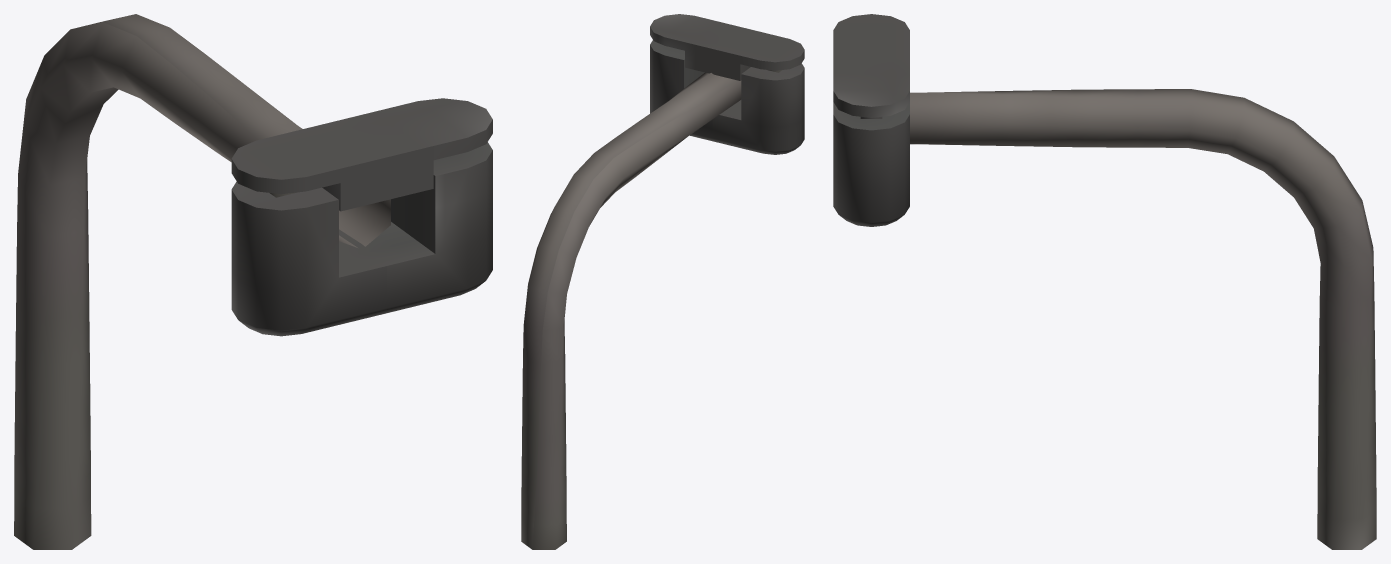
File: wall-cable-bend--5.gltf
The picture shows the model from 3 angles, left to right: view 1: azimuth 30°, elevation 25°; view 2: azimuth 150°, elevation 25°; view 3: azimuth 270°, elevation 25°; orthographic projection. The views are drawn at different scales.
Visible parts, largest first — view 1: cable_corner_towards; view 2: cable_corner_towards; view 3: cable_corner_towards.
Boxes of the visible parts, bbox=[...] form: cable_corner_towards: bbox=[14, 14, 492, 549]; cable_corner_towards: bbox=[521, 14, 804, 549]; cable_corner_towards: bbox=[833, 14, 1376, 549].
Size of the model in its own units: 0.0416 by 0.1 by 0.1029.
Materials: 1 (1 with a texture image).
